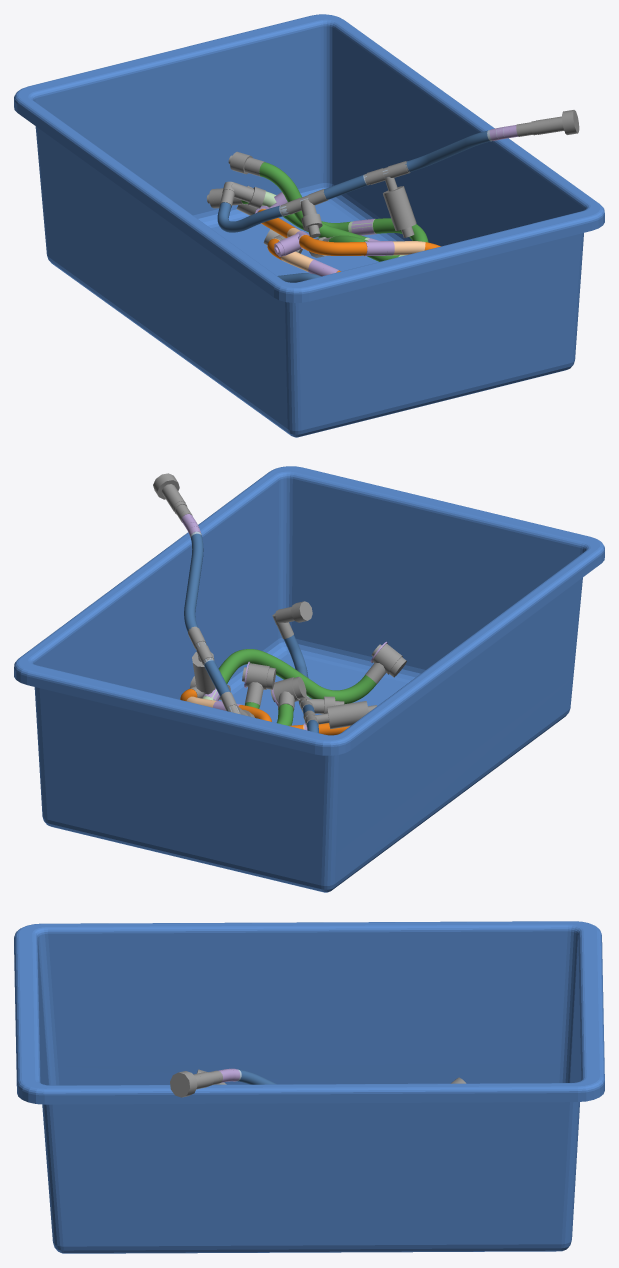
3 renders of one model, top to bottom at view 1: azimuth 30°, elevation 25°; view 2: azimuth 150°, elevation 25°; view 3: azimuth 270°, elevation 25°, orthographic. The views are drawn at different scales.
Visible parts, largest first — view 1: bin, tube_1_AB, tube_2_X, tube_5_Y, tube_6_Y, tube_4_X; view 2: bin, tube_1_AB, tube_3_Y, tube_0_AB, tube_5_Y, tube_6_Y, tube_2_X; view 3: bin, tube_1_AB.
Boxes of the visible parts, bbox=[...] form: bin: bbox=[14, 14, 604, 437]; tube_1_AB: bbox=[217, 110, 579, 237]; tube_2_X: bbox=[236, 186, 440, 256]; tube_5_Y: bbox=[228, 151, 380, 241]; tube_6_Y: bbox=[206, 188, 428, 242]; tube_4_X: bbox=[263, 229, 340, 276]; bin: bbox=[14, 466, 604, 892]; tube_1_AB: bbox=[153, 473, 254, 717]; tube_3_Y: bbox=[202, 641, 406, 704]; tube_0_AB: bbox=[272, 601, 376, 733]; tube_5_Y: bbox=[270, 676, 306, 725]; tube_6_Y: bbox=[242, 661, 276, 708]; tube_2_X: bbox=[180, 676, 271, 721]; bin: bbox=[14, 921, 604, 1253]; tube_1_AB: bbox=[170, 1068, 276, 1097].
Bounding box in the file's own units: 0.46 × 0.2357 × 0.59.
